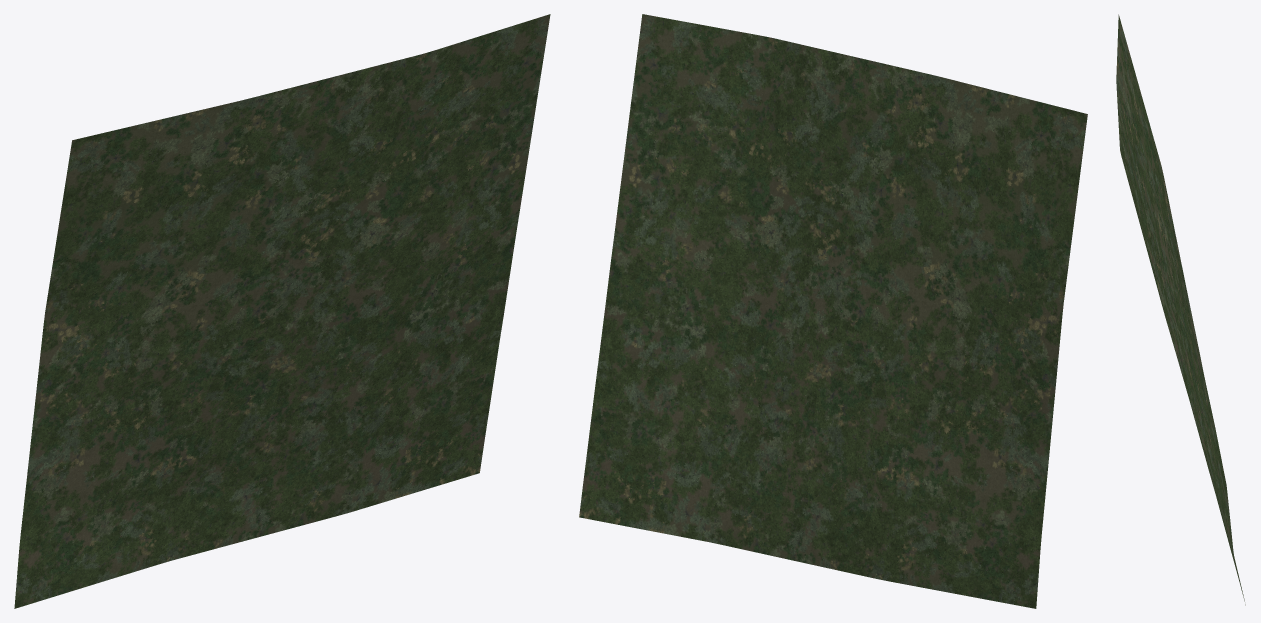
The model's file is terrain_near_07_05.obj.
3 renders of one model, left to right at view 1: azimuth 30°, elevation 25°; view 2: azimuth 150°, elevation 25°; view 3: azimuth 270°, elevation 25°, orthographic. The views are drawn at different scales.
Parts seen in each view (by area): view 1: terrain_near_07_05; view 2: terrain_near_07_05; view 3: terrain_near_07_05.
Boxes of the visible parts, box(x1,y1,x2,y2) form: terrain_near_07_05: box(14, 14, 550, 608); terrain_near_07_05: box(579, 14, 1087, 608); terrain_near_07_05: box(1116, 14, 1245, 605).
Bounding box in the file's own units: 64 × 64 × 18.63.
1 material, 1 textured.
